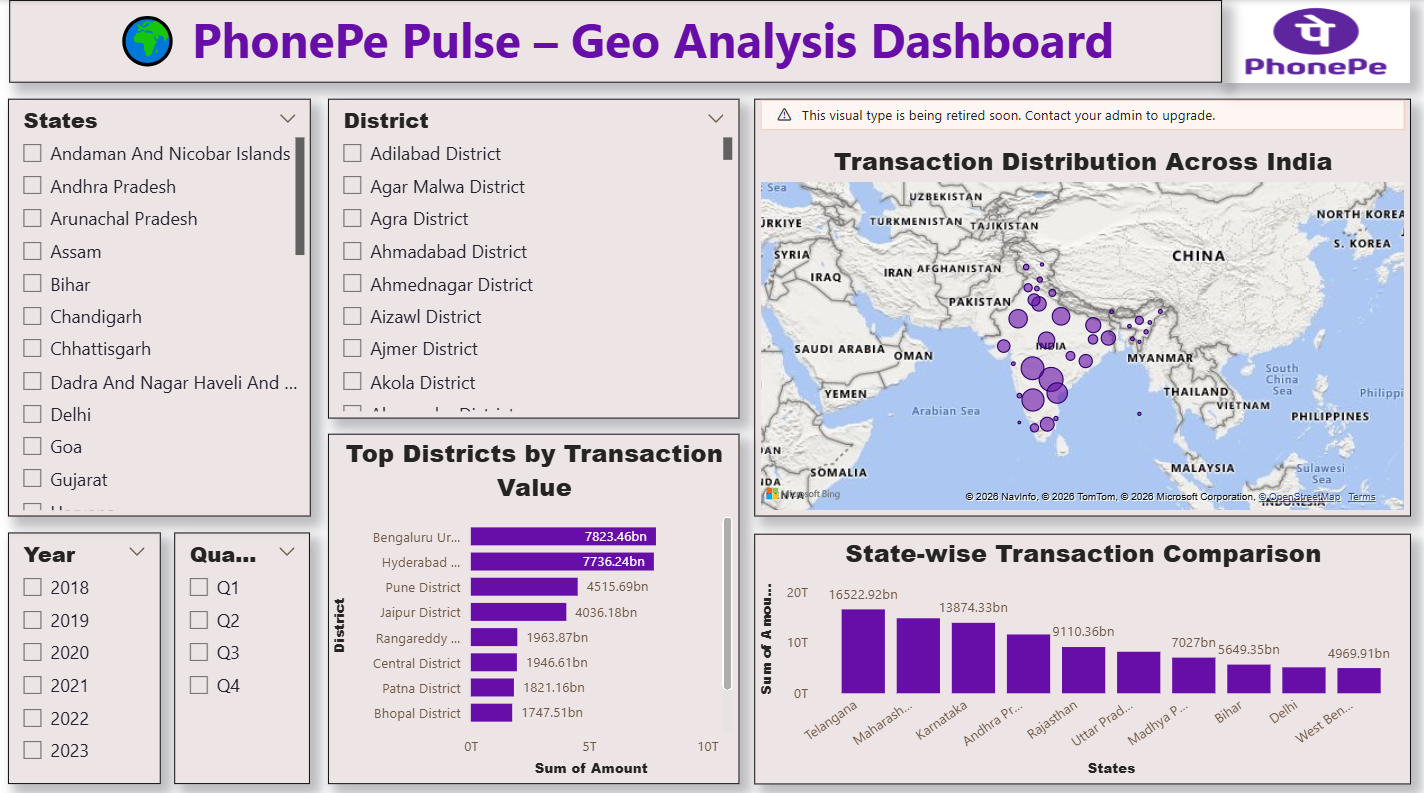

What the dashboard file says about the page in this screenshot:
{"tool":"powerbi","page":{"name":"Geo analysis","canvas":[1280,720],"ordinal":1},"visuals":[{"type":"slicer","fields":{"Values":["Date_table.Year"]},"box":[8.7,474.7,135.6,223.6],"z":0},{"type":"textbox","box":[9.8,0,1079.8,73.6],"z":1000},{"type":"slicer","fields":{"Values":["Date_table.Quarter"]},"box":[157.3,474.7,121.2,223.6],"z":2000},{"type":"slicer","fields":{"Values":["State_Table.States"]},"box":[8.7,88,269.8,372.2],"z":3000},{"type":"slicer","fields":{"Values":["map_transaction.District"]},"box":[293.8,87.7,366.2,284.6],"z":4000},{"type":"map","title":"Transaction Distribution Across India","fields":{"Category":["State_Table.States"],"Size":["aggregated_transaction.Total Amount"]},"box":[673.8,87.7,584.6,372.3],"z":5000},{"type":"clusteredBarChart","title":"Top Districts by Transaction Value","fields":{"Category":["map_transaction.District"],"Y":["Sum(map_transaction.Amount)"]},"box":[293.8,386.2,366.2,312.3],"z":6000},{"type":"clusteredColumnChart","title":"State-wise Transaction Comparison","fields":{"Category":["State_Table.States"],"Y":["Sum(map_transaction.Amount)"]},"box":[673.8,475.4,584.6,223.1],"z":7000},{"type":"image","box":[1089.6,0,168.1,73.6],"z":7001}]}

Visuals, with their boxes in screenshot pixels (x1, y1, x2, y2), scaled from the page's 1280x720 canvas onto the 1424x793 screenshot:
slicer - Date_table.Year: Rect(10, 523, 161, 769)
textbox: Rect(11, 0, 1212, 81)
slicer - Date_table.Quarter: Rect(175, 523, 310, 769)
slicer - State_Table.States: Rect(10, 97, 310, 507)
slicer - map_transaction.District: Rect(327, 97, 734, 410)
"Transaction Distribution Across India" map: Rect(750, 97, 1400, 507)
"Top Districts by Transaction Value" clusteredBarChart: Rect(327, 425, 734, 769)
"State-wise Transaction Comparison" clusteredColumnChart: Rect(750, 524, 1400, 769)
image: Rect(1212, 0, 1399, 81)
